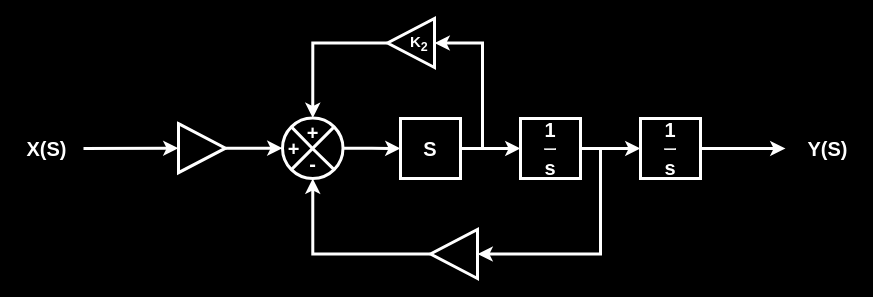
The diagram is 873 pixels wide and 297 high, and some of its shapes have lost their labels. The centre of each missing label's shape, as x and y in pixels:
"K 1" goes at (x=201, y=148).
"K 3" goes at (x=453, y=254).
